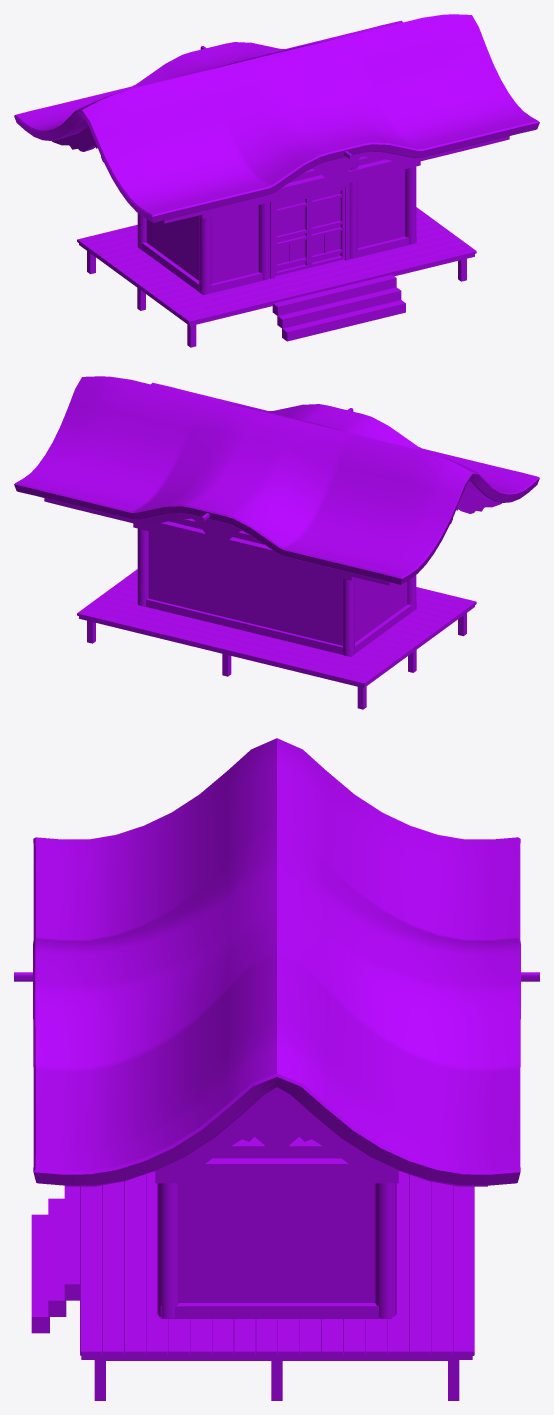
File: petit_temple_LOD0.fbx
3 renders of one model, top to bottom at view 1: azimuth 30°, elevation 25°; view 2: azimuth 150°, elevation 25°; view 3: azimuth 270°, elevation 25°, orthographic. The views are drawn at different scales.
Visible parts, largest first — view 1: petit_temple_LOD0; view 2: petit_temple_LOD0; view 3: petit_temple_LOD0.
Part boxes in pixels (x1,y1,x2,y2): petit_temple_LOD0: (14, 14, 539, 347); petit_temple_LOD0: (14, 376, 539, 709); petit_temple_LOD0: (14, 738, 539, 1400).
Bounding box in the file's own units: 29.83 × 16.24 × 19.71.
